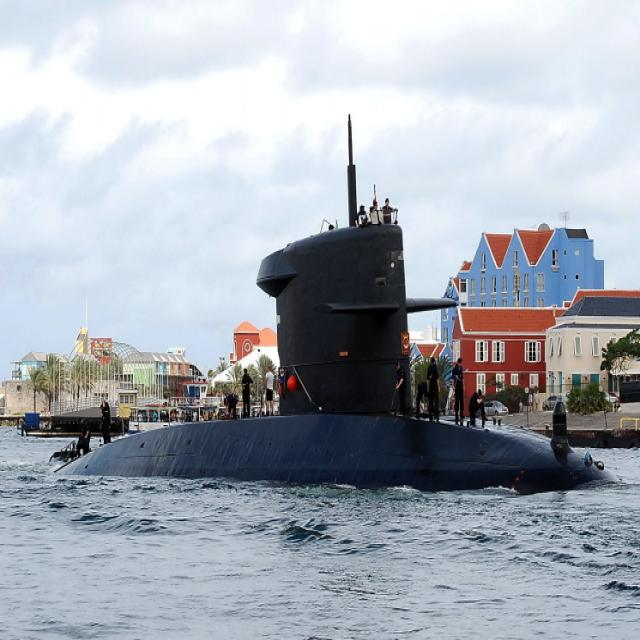submarine: (24, 216, 627, 487)
